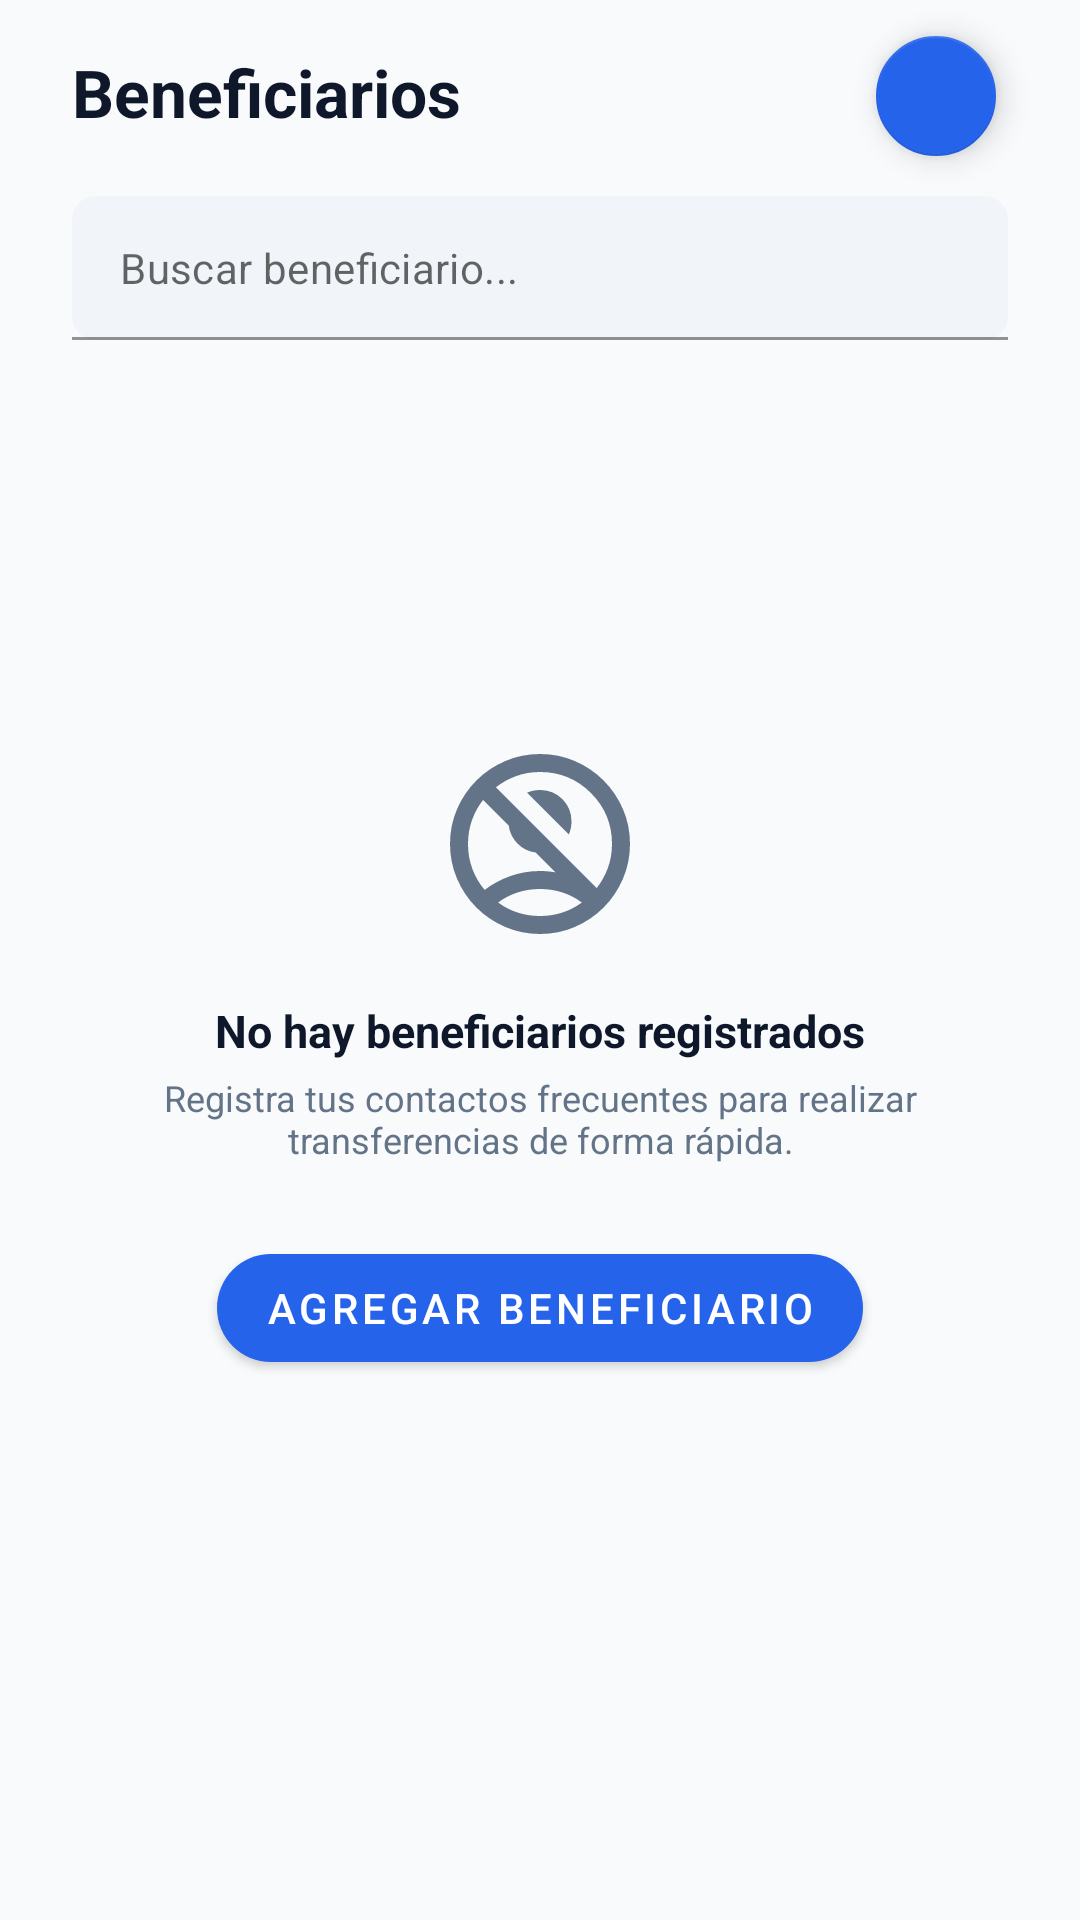

Icon bounding boxes for this 1080x1920 phone screenshot, format (x1, y1, x2, y2):
Sin beneficiarios: (450, 754, 630, 934)
